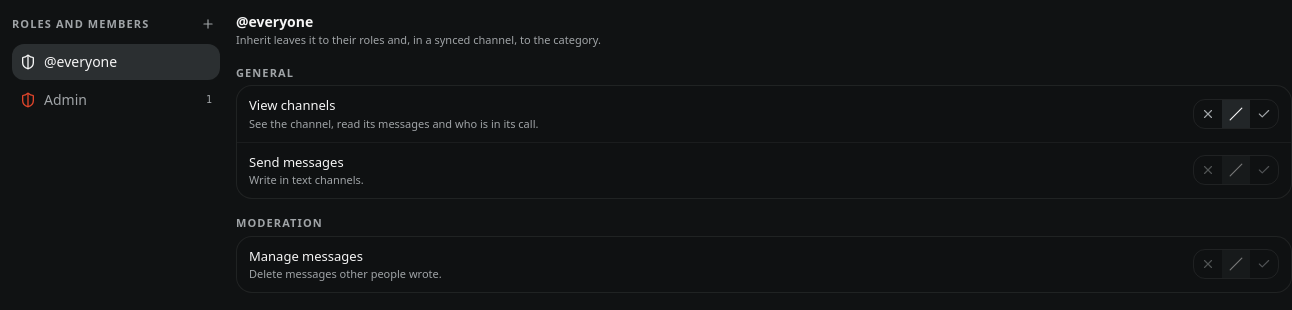
Scenario: PermissionOverridesEditor › locks a role above the editor, and a permission they do not hold
This screenshot has width=1292, height=310.
Expected: the radio button named "Deny" in the row of "Write in text channels." is disabled, [1194,156,1222,184]
Expected: the radio button named "Deny" in the row of "View channels" is enabled, [1194,100,1222,128]
Click the option "Admin 1". click: coordinates (116, 100)
box: [12,82,220,118]
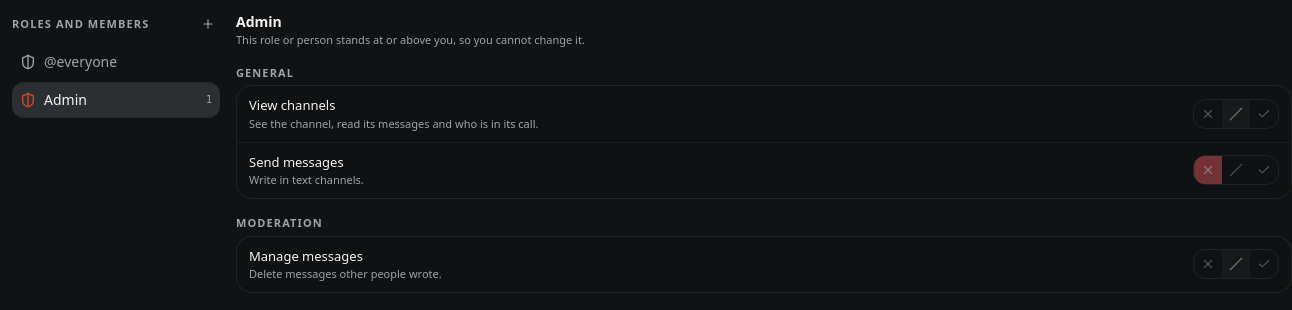
Result: the radio button named "Deny" in the row of "View channels" is disabled at [1194,100,1222,128]
Result: the text "stands at or above you" is shown at [236,32,585,47]
